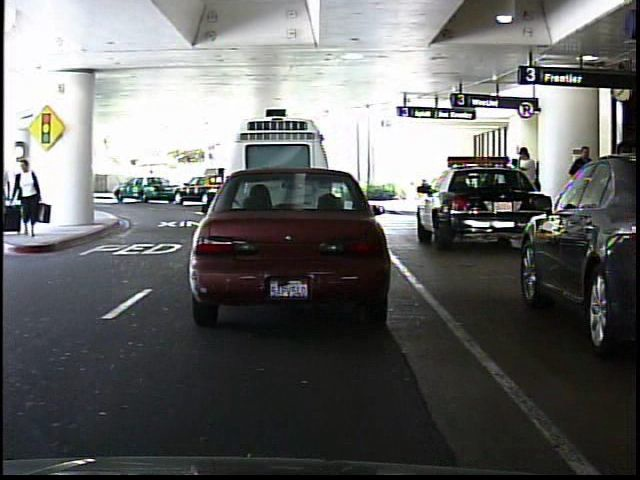person: (565, 140, 603, 231), (513, 141, 545, 233), (11, 154, 45, 240), (144, 164, 162, 198)
